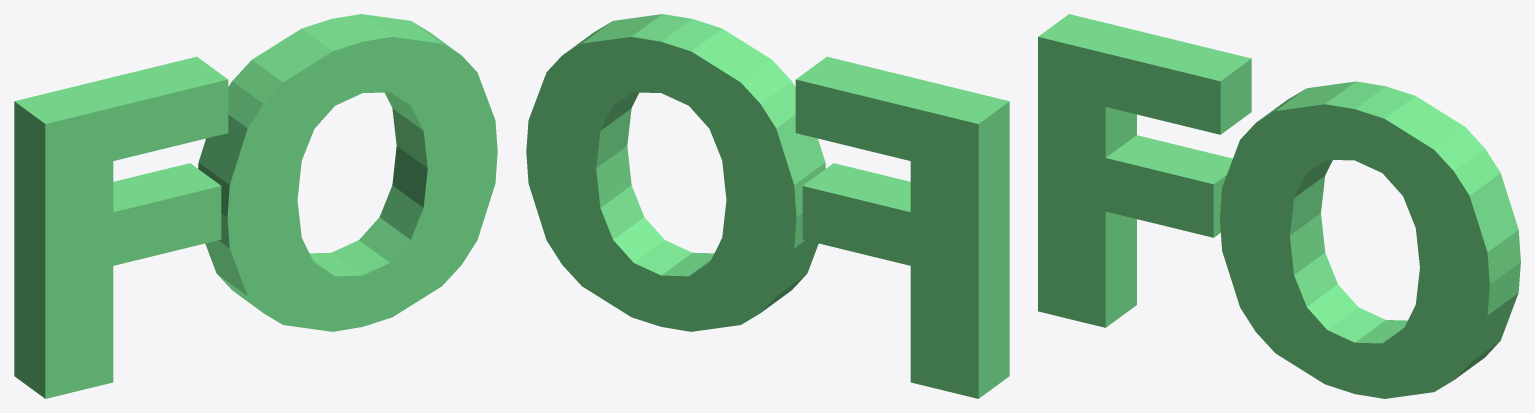
The model's file is suku_besar_fo.glb.
3 views of the same model, side by side, from view 1: azimuth 30°, elevation 25°; view 2: azimuth 150°, elevation 25°; view 3: azimuth 330°, elevation 25° (orthographic).
Visible parts, largest first — view 1: geometry_0; view 2: geometry_0; view 3: geometry_0.
Boxes of the visible parts, x1=… form: geometry_0: x1=14, y1=14, x2=497, y2=398; geometry_0: x1=526, y1=14, x2=1009, y2=398; geometry_0: x1=1038, y1=14, x2=1520, y2=398.
Bounding box in the file's own units: 12.55 × 7.56 × 1.5.
